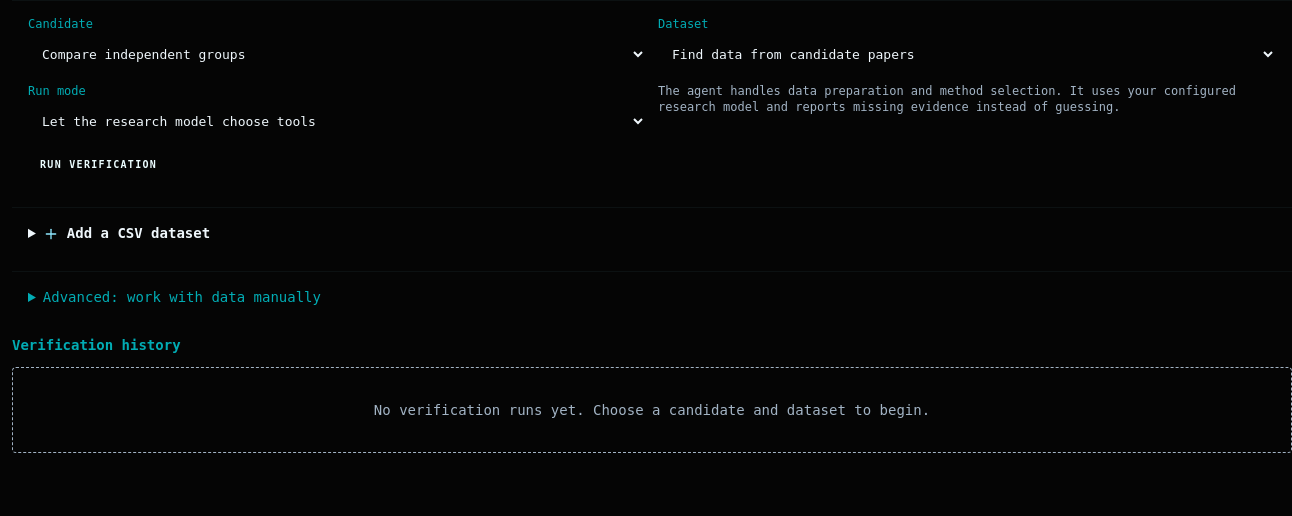
Test case: ResearchVerificationConsole › surfaces API failures rather than reporting a successful run
This screenshot has width=1292, height=516.
Click the button "Run verification".
click(99, 164)  # box [28,150,169,179]
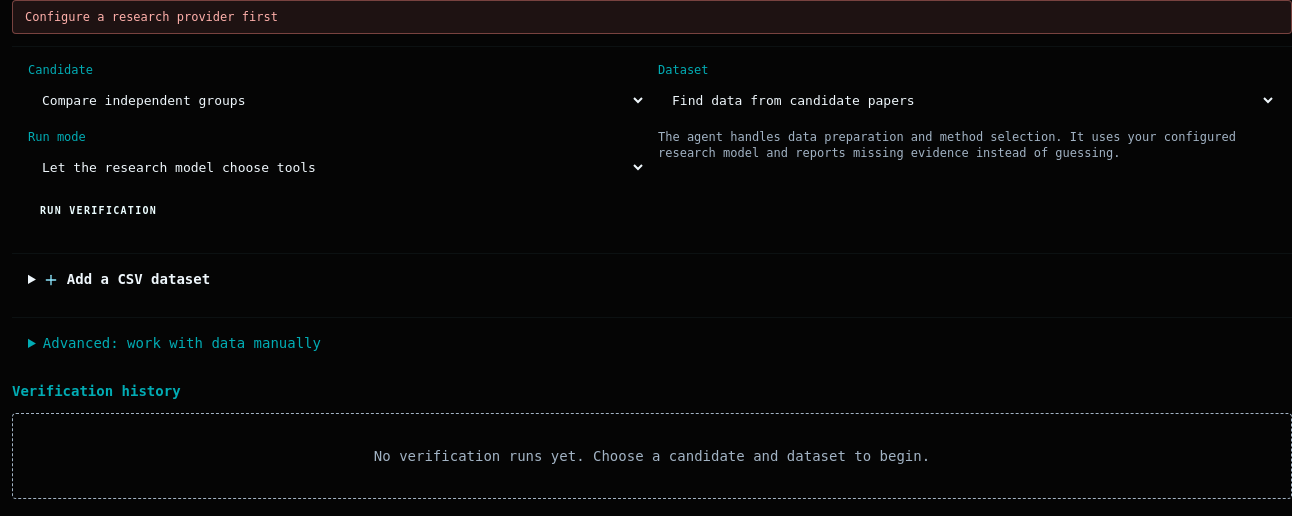
Expected: the message reads "Configure a research provider first", [25,10,278,24]
